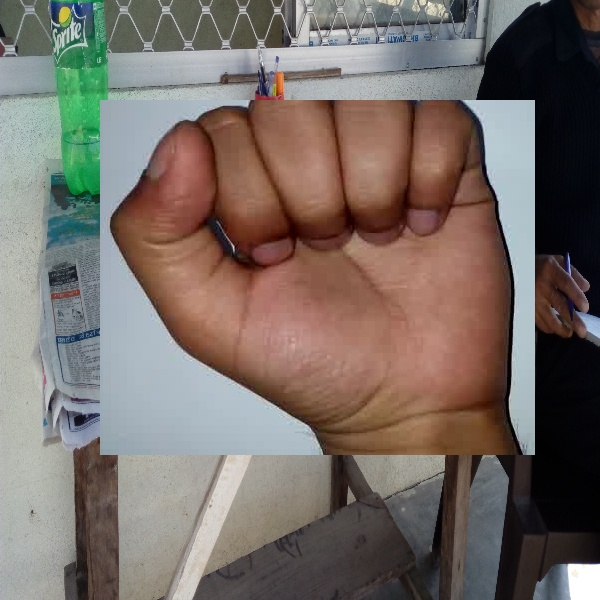A: (100, 100, 535, 455)
